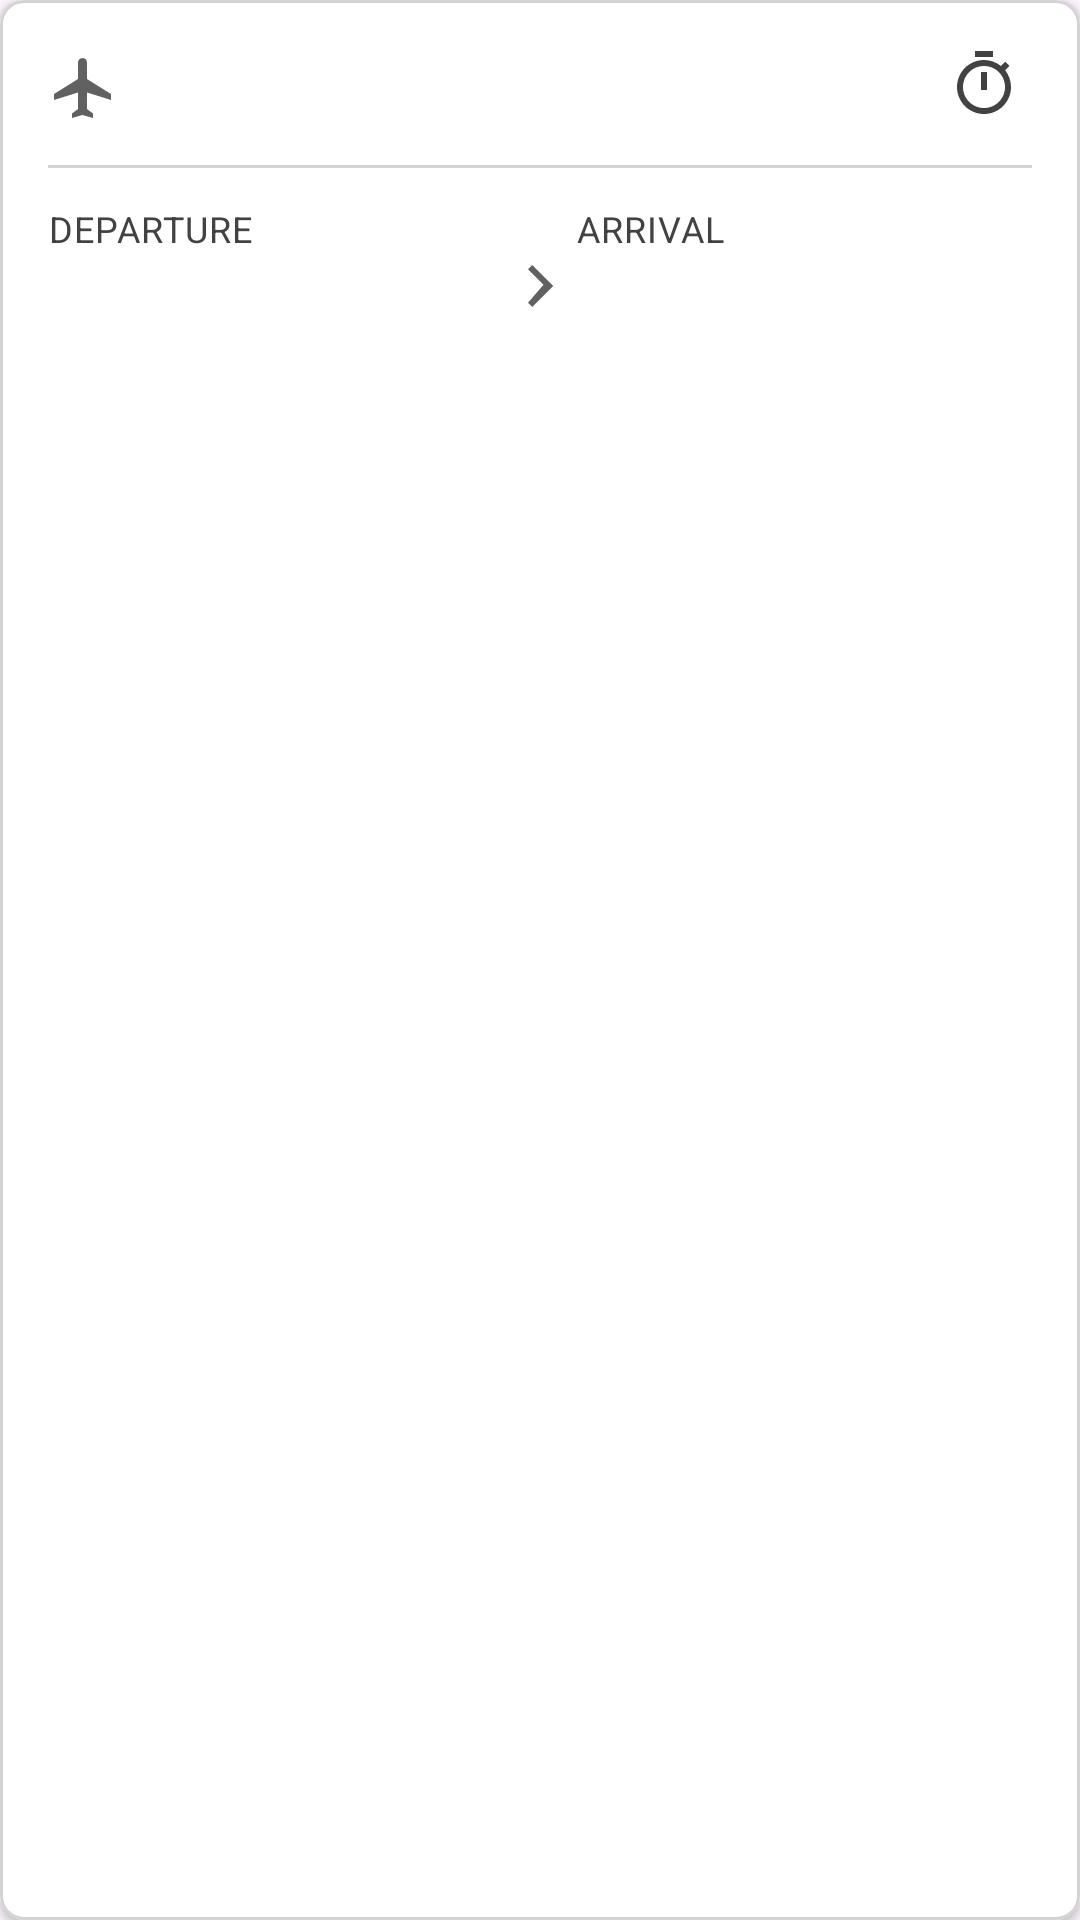

Icon click points for this 1080px x 1920px phone screenshot, format (x,y):
Flight direction: (540,286)
